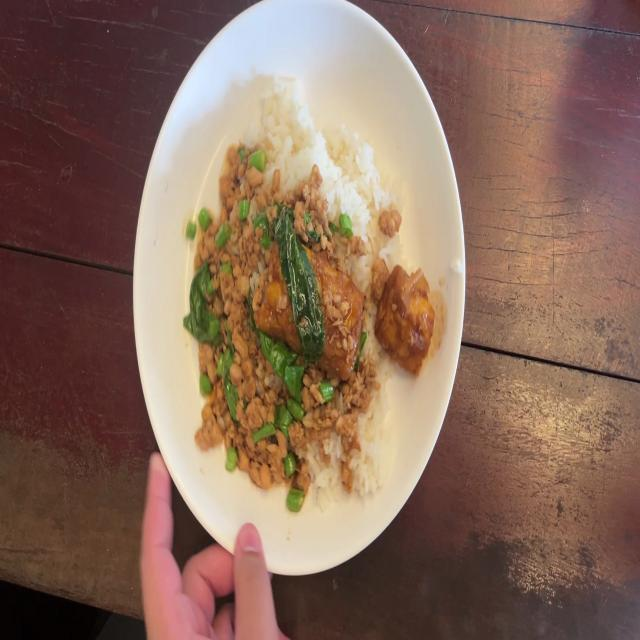01rice: (261, 80, 388, 222)
fried_tofo: (259, 245, 357, 372), (373, 264, 427, 362)
minced_pork: (202, 366, 371, 494), (187, 136, 260, 364), (269, 179, 325, 246), (380, 209, 403, 234)
stir_fried_basil: (188, 80, 429, 507)
